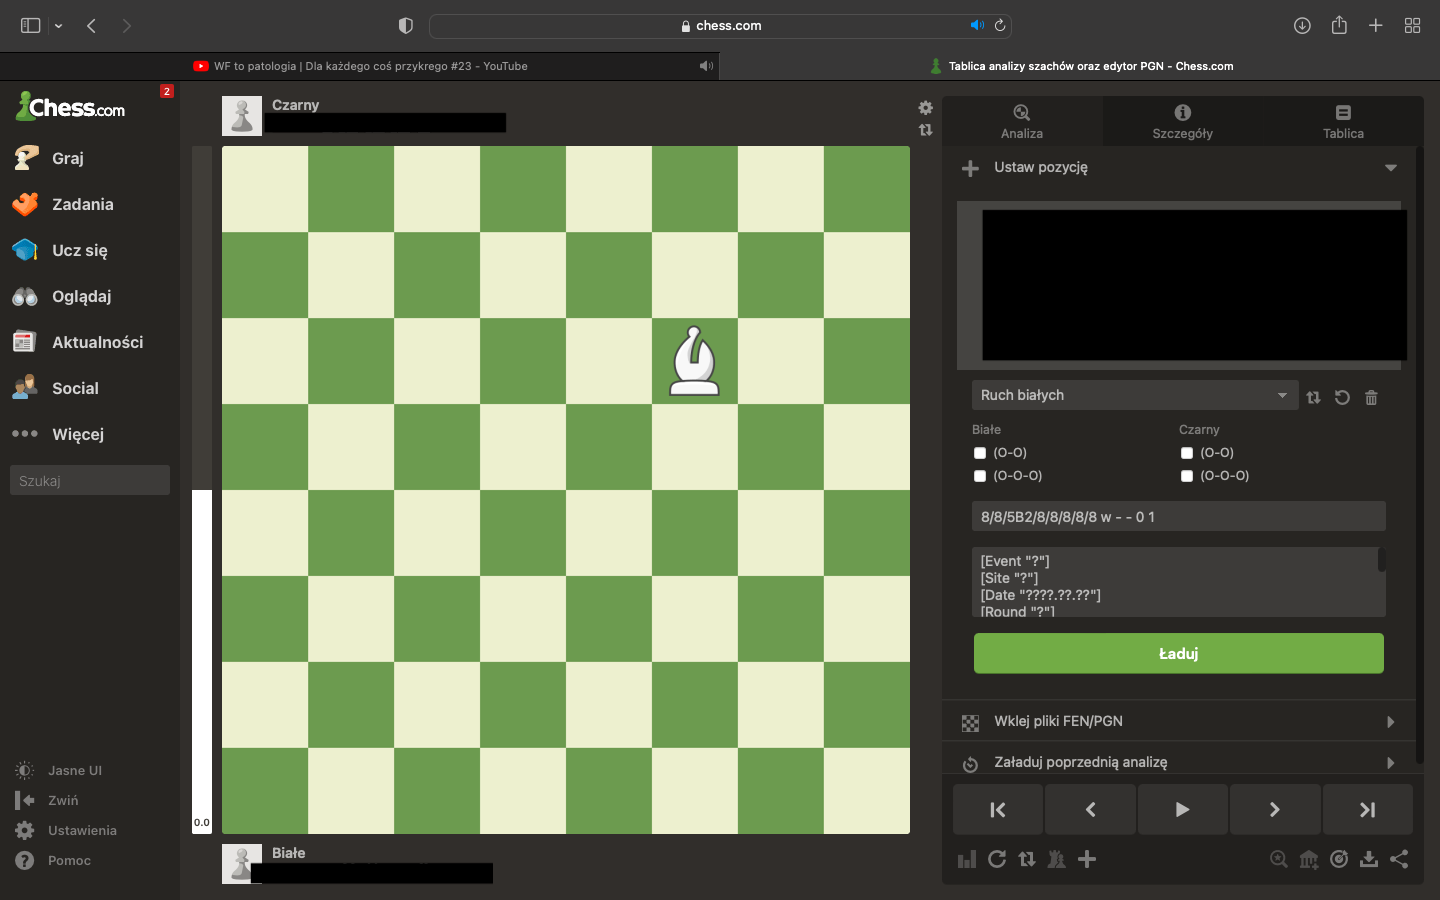white_bishop: (668, 324, 721, 397)
